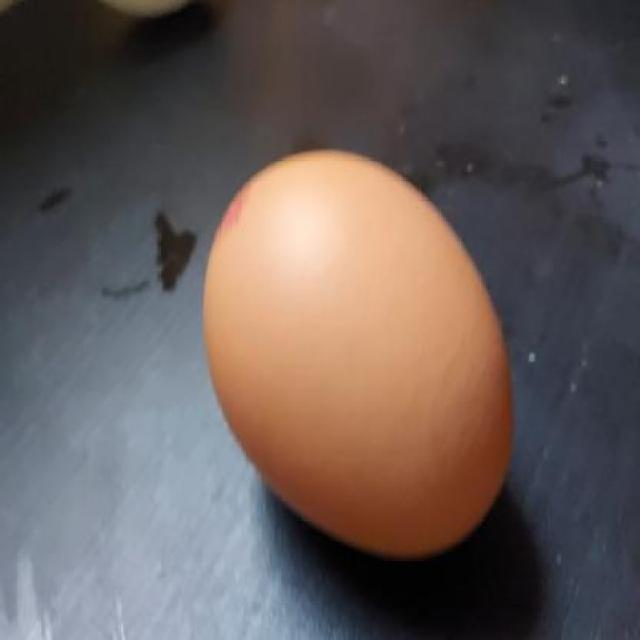biodegradable: (202, 150, 515, 556)
